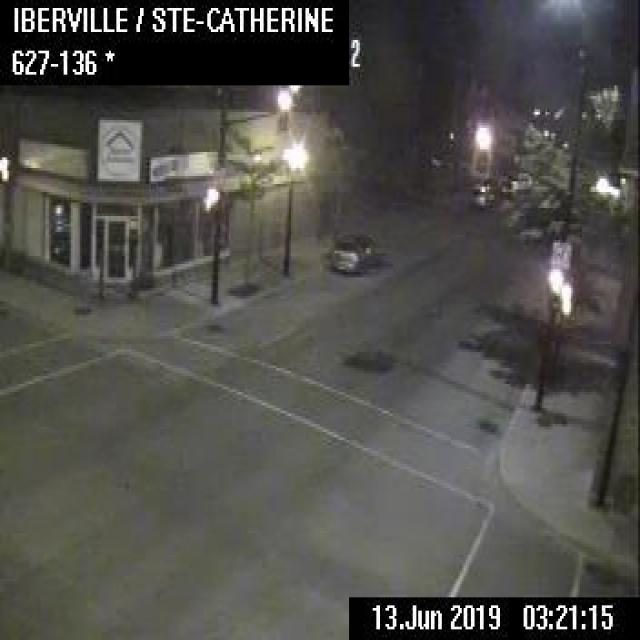vehicle: (331, 229, 378, 273), (467, 174, 500, 208), (500, 169, 532, 193)
